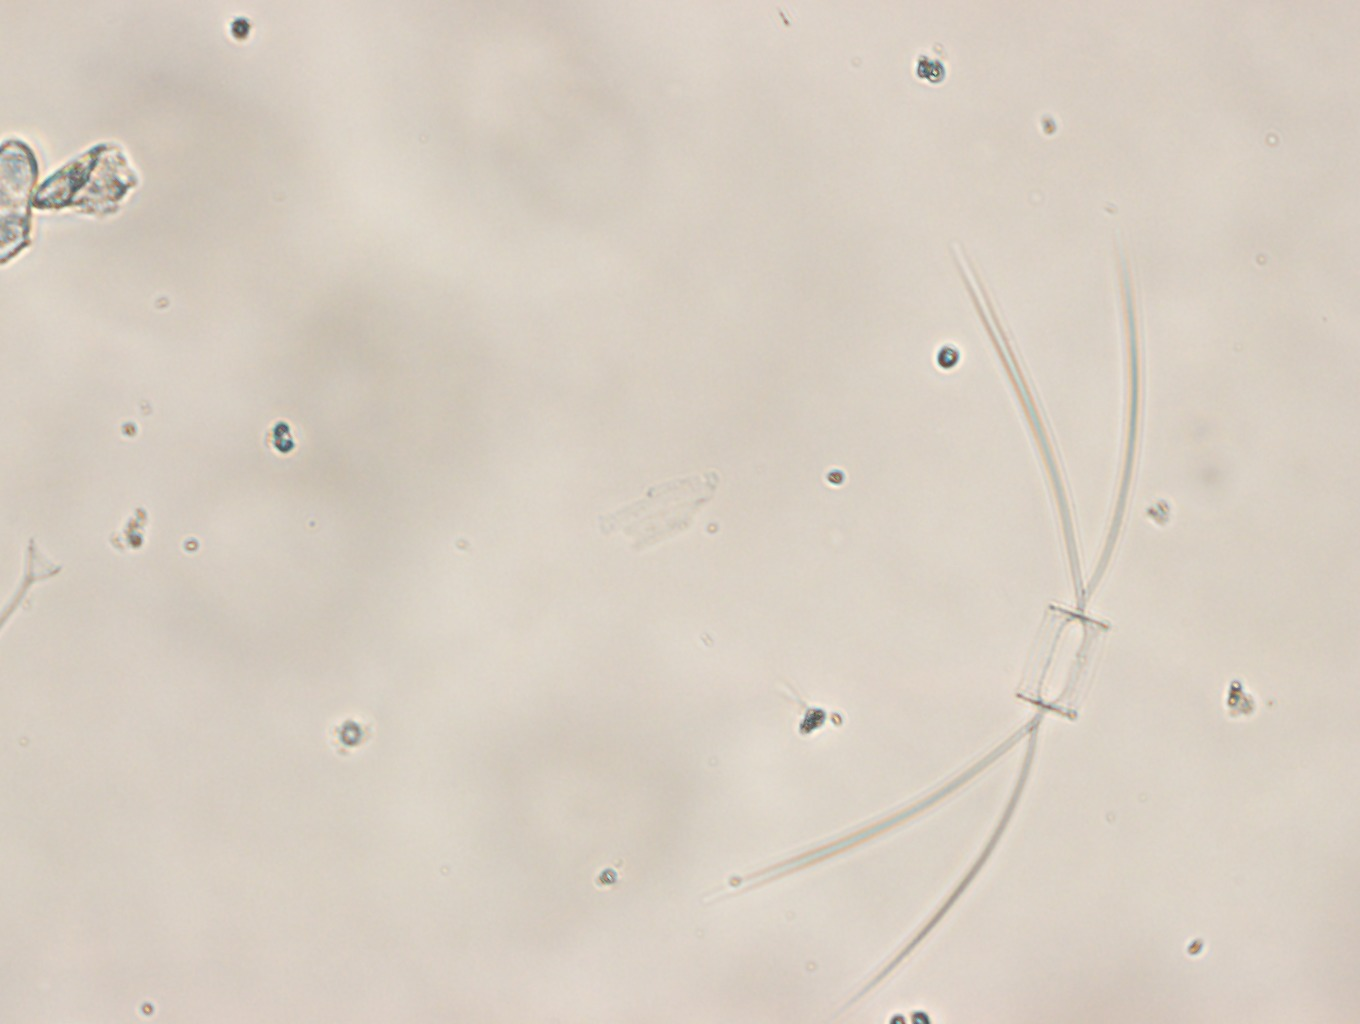chaetoceros: (733, 245, 1143, 994)
